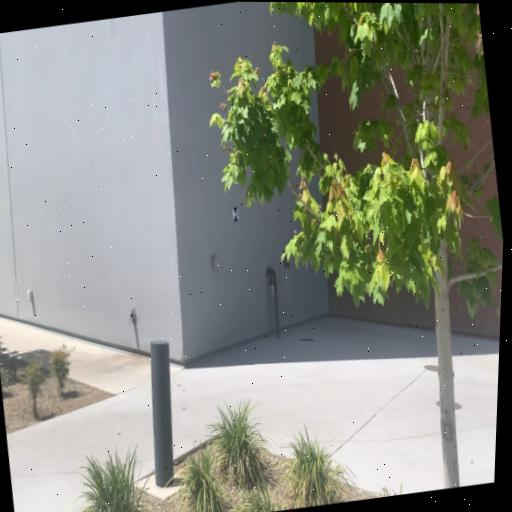target5: (232, 207, 239, 222)
